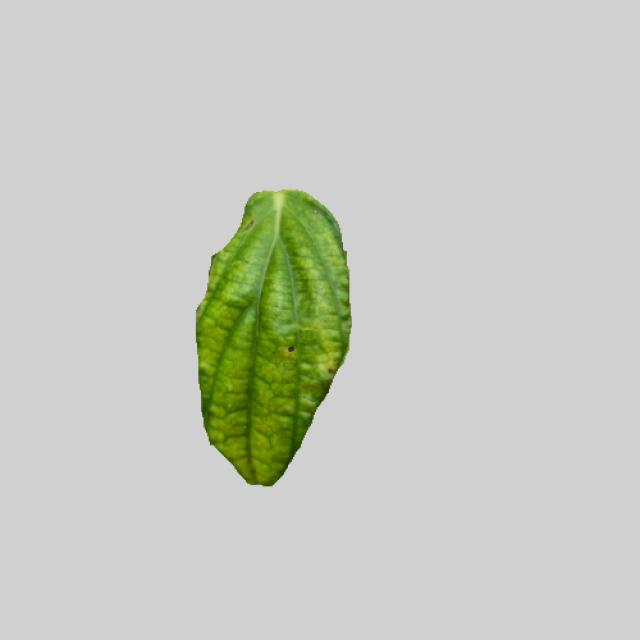yellow-mottle-virus: (188, 182, 357, 482)
